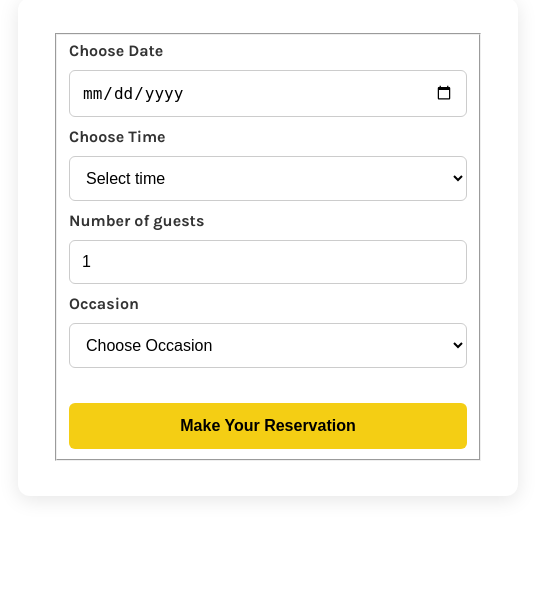
Scenario: shows validation errors when submit button is clicked with invalid form
Click the button showing "Make Your Reservation" at x=268, y=426, box [69, 403, 467, 449]
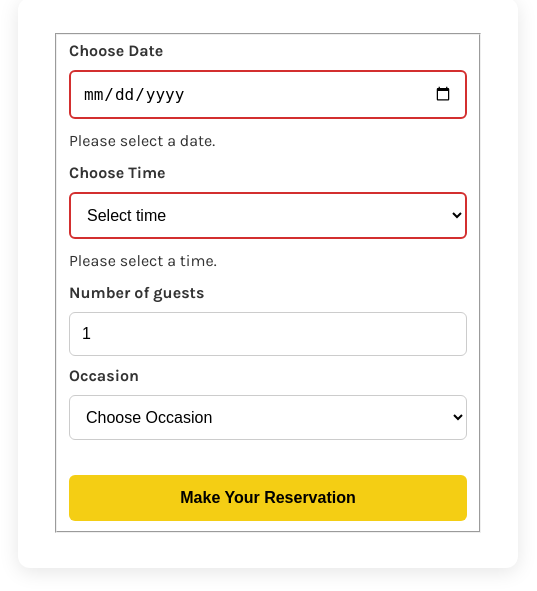
Result: the text "Please select a date." is shown at [69, 131, 215, 150]
Result: the text "Please select a time." is shown at [69, 251, 217, 270]
